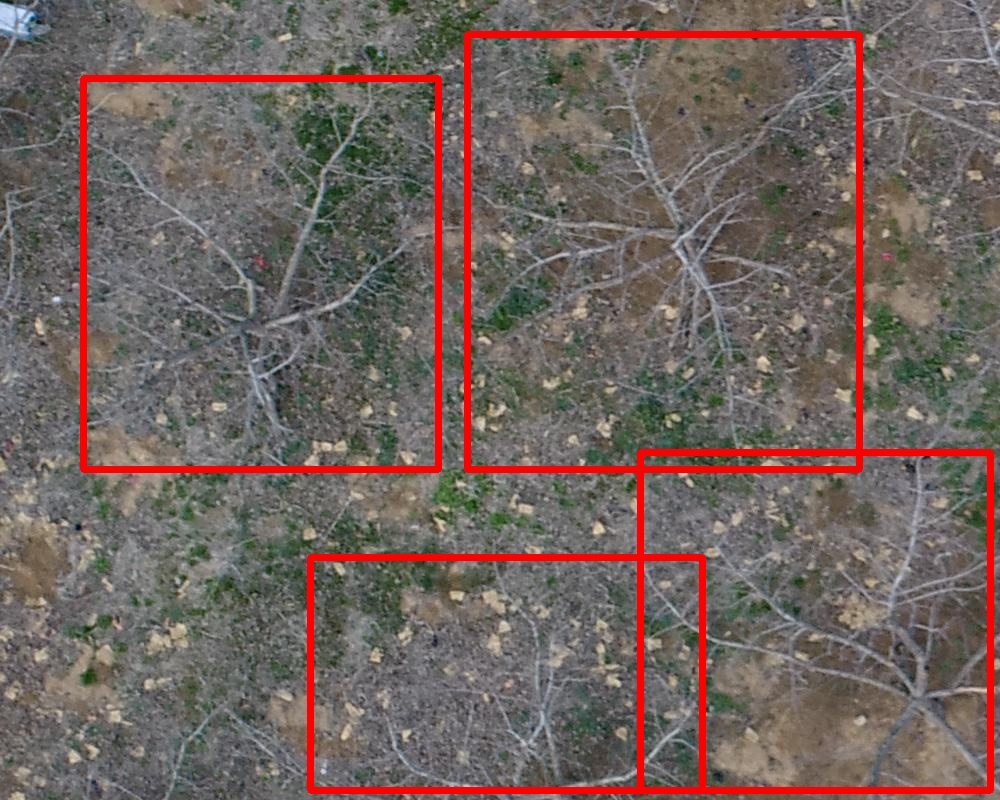apple: (467, 34, 859, 469), (83, 78, 438, 469), (640, 452, 990, 790), (310, 557, 702, 790)
